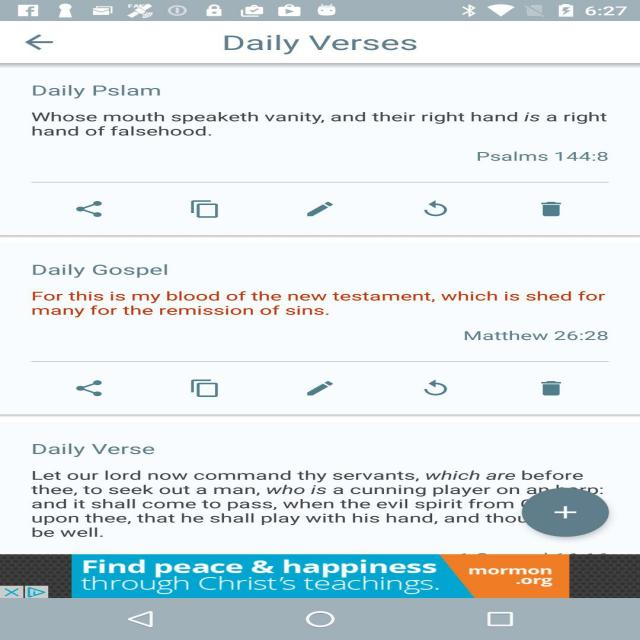button: (522, 490, 607, 536), (169, 194, 240, 227), (11, 26, 74, 60), (60, 194, 121, 226), (289, 194, 350, 225), (524, 194, 579, 227), (414, 196, 458, 224), (0, 585, 21, 597), (29, 584, 47, 596)
icon: (516, 194, 580, 224), (414, 193, 458, 220), (528, 378, 571, 400), (182, 378, 224, 398), (185, 201, 222, 219), (74, 379, 109, 398), (415, 381, 451, 399), (72, 202, 108, 218), (302, 200, 334, 217), (306, 381, 336, 398), (27, 34, 56, 48), (549, 506, 578, 518), (2, 586, 21, 598), (26, 587, 47, 596)
image: (68, 555, 572, 597)
text: (24, 471, 614, 540), (26, 291, 619, 317), (33, 113, 616, 137), (218, 32, 422, 55), (458, 328, 618, 346), (27, 262, 180, 278), (30, 441, 162, 457), (471, 150, 615, 164), (30, 85, 163, 99)
